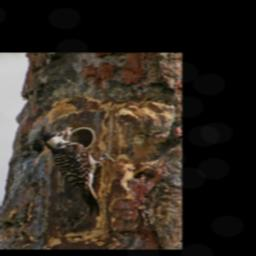Woodpecker: (42, 128, 115, 216)
